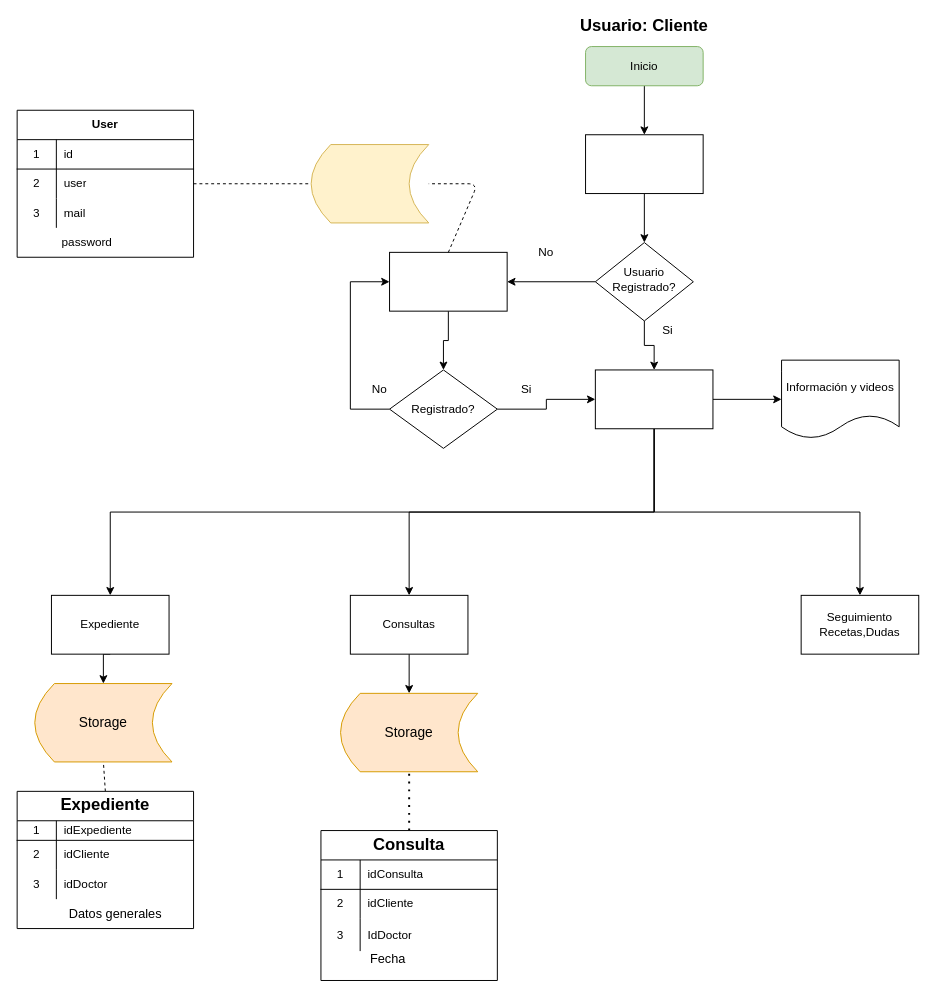
Image size: 936x998. Some labels were removed from this diagram. The shapes that lost their labels are listed below. From the top down, each one's centre as x and y in pixels, then its label:
At point (369, 183): "Storage Save".
At point (644, 164): "Ingreso".
At point (448, 281): "Registro".
At point (653, 399): "Panel de usuario".
